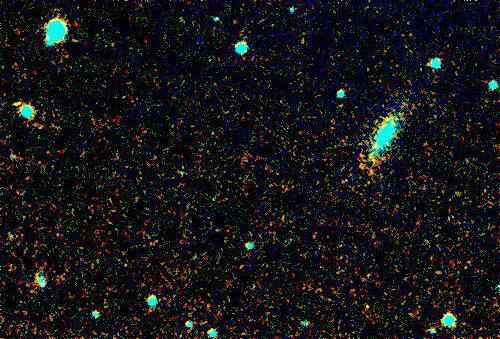star: (0, 89, 30, 119)
